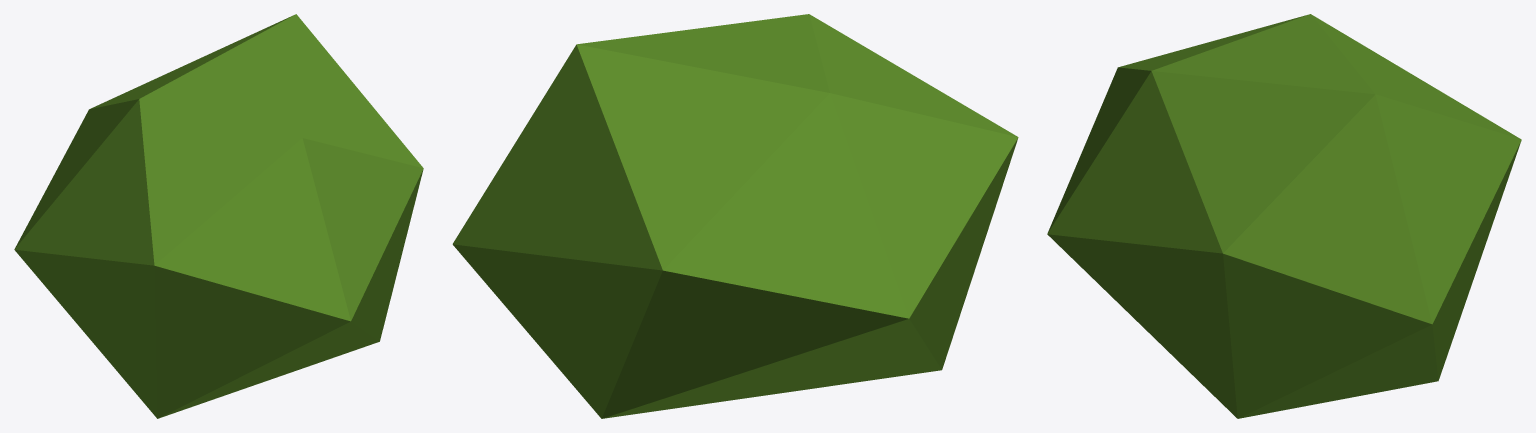
File: Bush5.fbx
The picture shows the model from 3 angles, left to right: view 1: azimuth 30°, elevation 25°; view 2: azimuth 150°, elevation 25°; view 3: azimuth 270°, elevation 25°; orthographic projection. The views are drawn at different scales.
Parts seen in each view (by area): view 1: Cube.006; view 2: Cube.006; view 3: Cube.006.
Part boxes in pixels (x1=…): Cube.006: x1=14, y1=14, x2=423, y2=418; Cube.006: x1=452, y1=14, x2=1018, y2=418; Cube.006: x1=1047, y1=14, x2=1521, y2=418.
Size of the model in its own units: 156 by 117 by 161.
